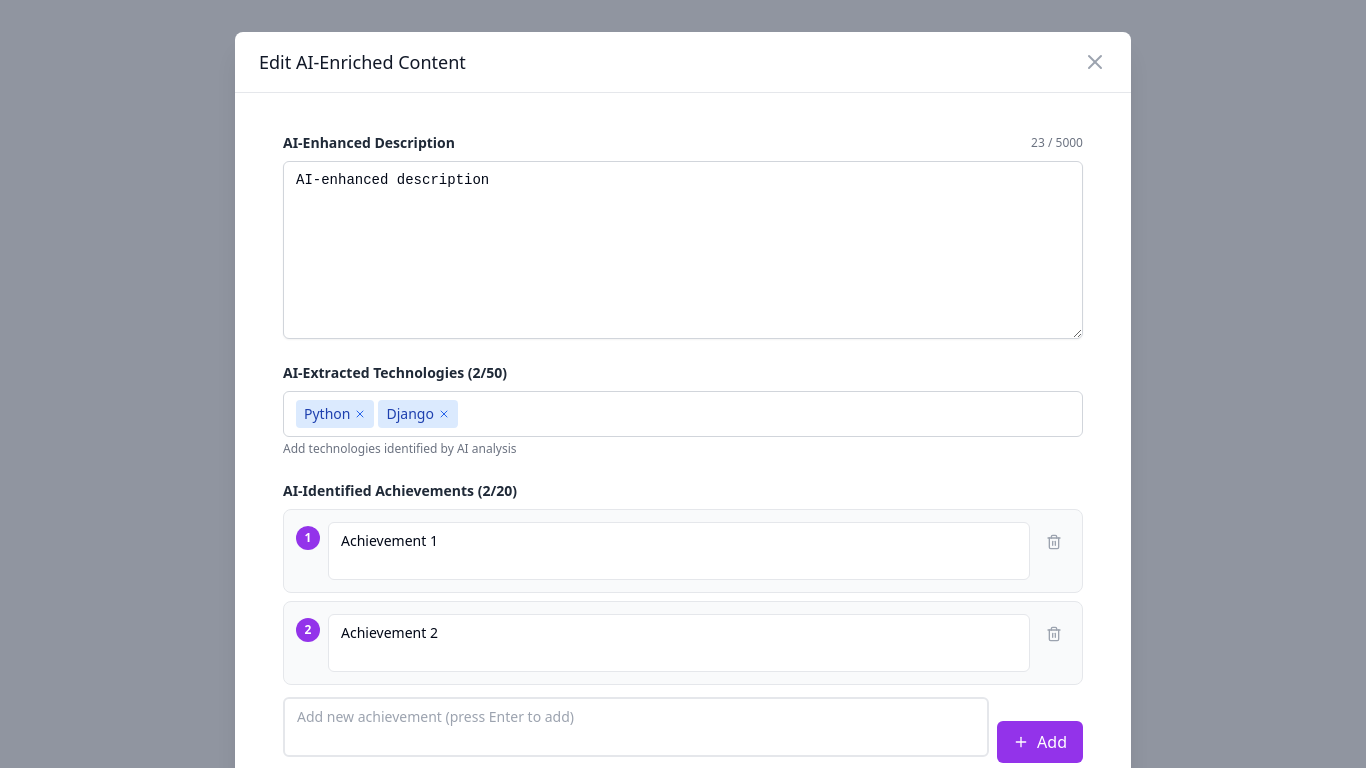
EnrichedContentEditor › allows removing achievement
Click the 1st button titled "Remove achievement".
click(1054, 542)  # box top-left (1038, 526), bottom-right (1070, 558)
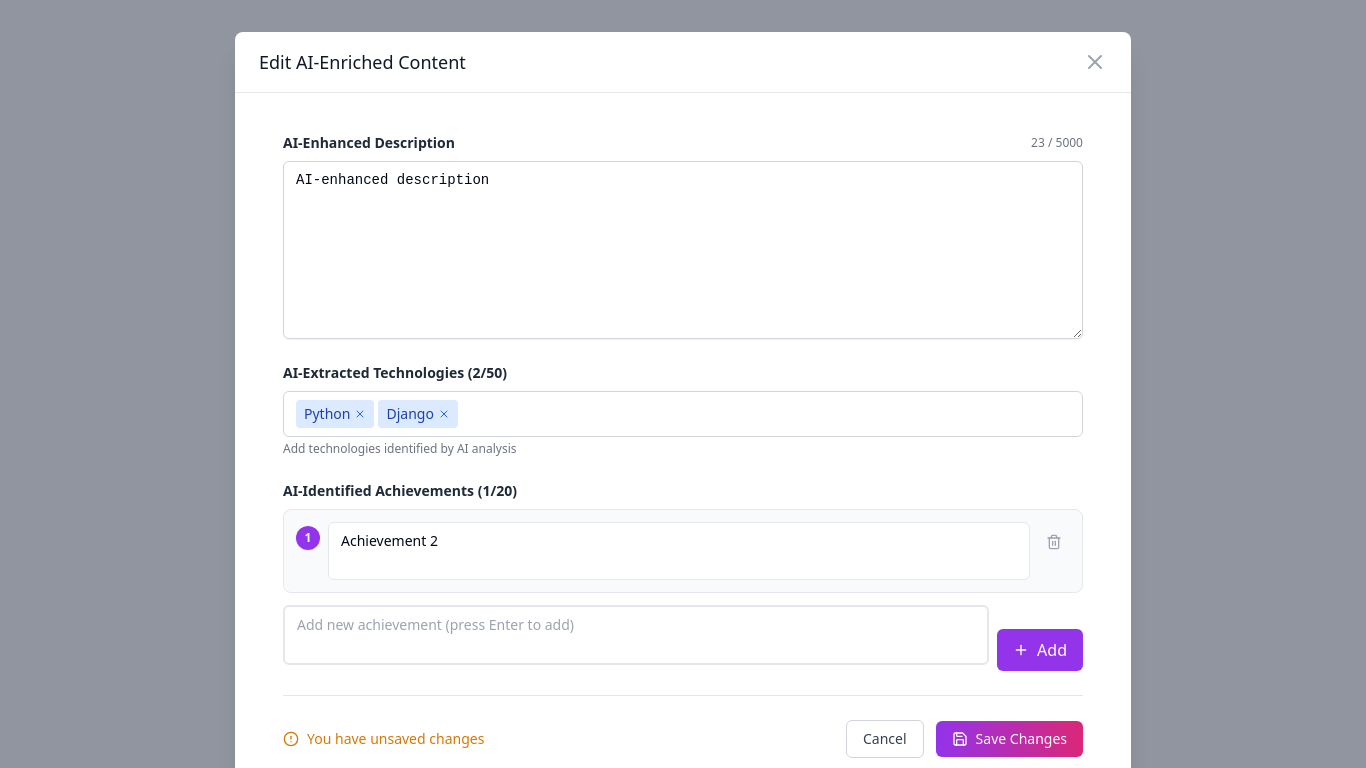
Expected: the text "Achievement 1" is not shown
Now the text "AI-Identified Achievements (1/20)" is shown, box top-left (283, 481), bottom-right (517, 501)
